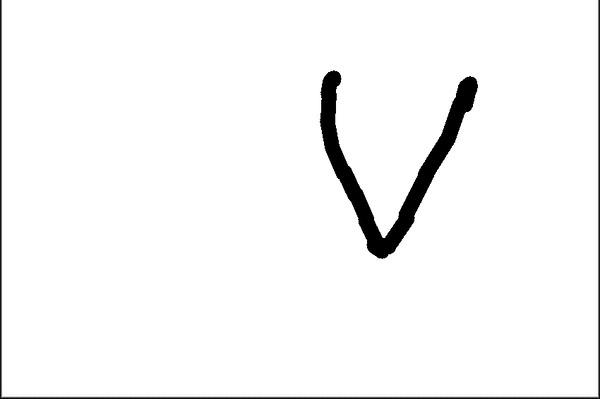V: (316, 54, 485, 265)
